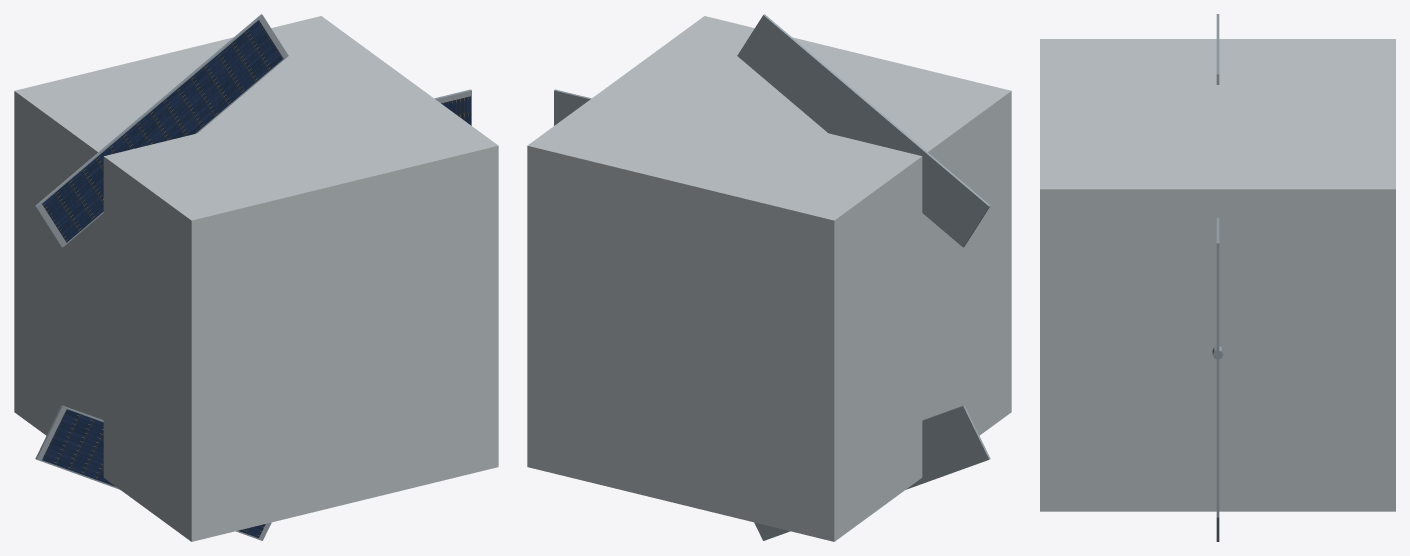
File: ref-xsd-57421.glb
3 renders of one model, left to right at view 1: azimuth 30°, elevation 25°; view 2: azimuth 150°, elevation 25°; view 3: azimuth 270°, elevation 25°, orthographic.
Parts seen in each view (by area): view 1: Spacecraft body, Photovoltaic laminates (×2), Array frame (×2); view 2: Spacecraft body, Array frame (×3); view 3: Spacecraft body, Array frame.
Part boxes in pixels (bbox=[...]): Spacecraft body: bbox=[14, 16, 498, 541]; Photovoltaic laminates (×2): bbox=[42, 20, 283, 537]; Array frame (×2): bbox=[35, 14, 288, 540]; Spacecraft body: bbox=[527, 16, 1011, 541]; Array frame (×3): bbox=[554, 14, 990, 540]; Spacecraft body: bbox=[1040, 39, 1395, 511]; Array frame: bbox=[1216, 218, 1219, 517].
Size of the model in its own units: 0.4254 by 0.4912 by 0.3.
Materials: 3 (1 with a texture image).
